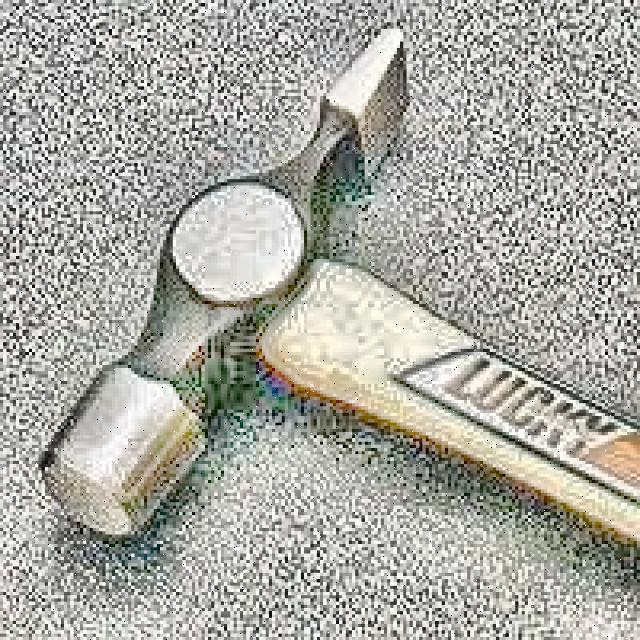hammer: (38, 28, 640, 540)
